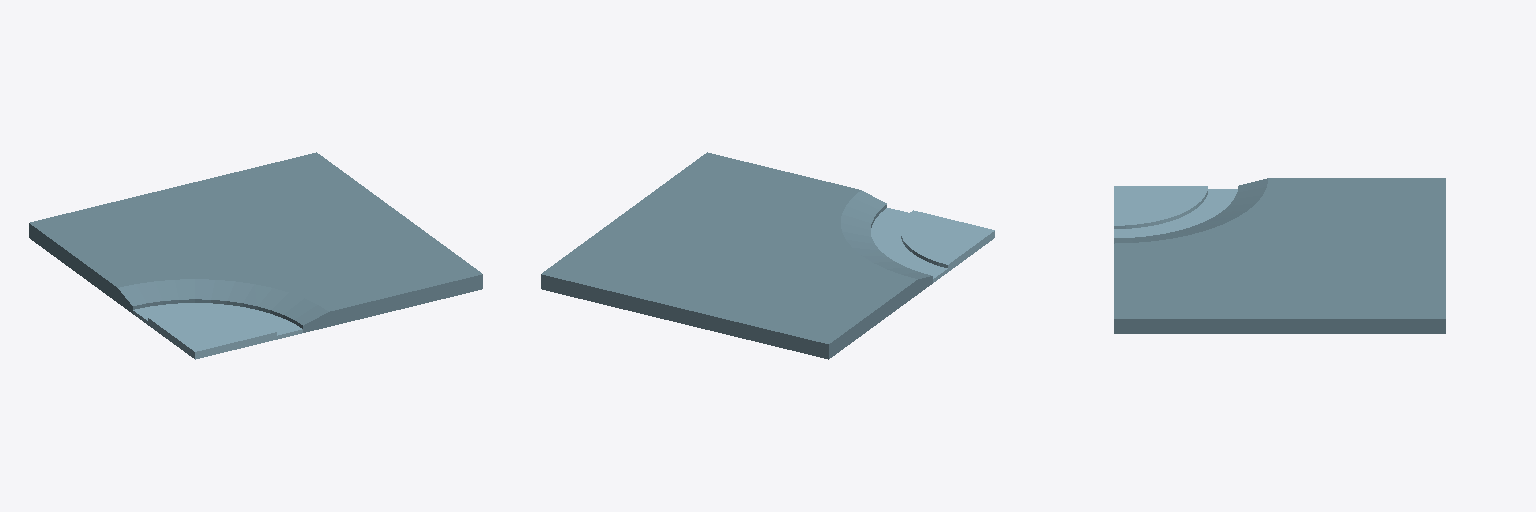
Rendered from roadCornerInner.obj.
3 renders of one model, left to right at view 1: azimuth 30°, elevation 25°; view 2: azimuth 150°, elevation 25°; view 3: azimuth 270°, elevation 25°, orthographic.
Visible parts, largest first — view 1: roadCornerInner; view 2: roadCornerInner; view 3: roadCornerInner.
Part boxes in pixels (x1,y1,x2,y2): roadCornerInner: (29, 152, 482, 359); roadCornerInner: (541, 152, 994, 359); roadCornerInner: (1114, 178, 1445, 333).
Bounding box in the file's own units: 1 × 0.05 × 1.